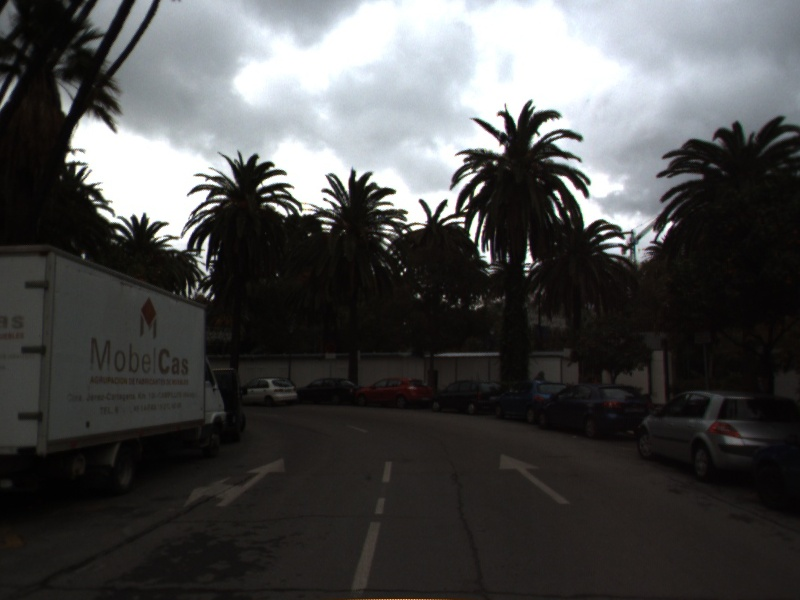STRAIGHT: (497, 451, 573, 506)
STRAIGHT_LEFT: (181, 456, 287, 509)
